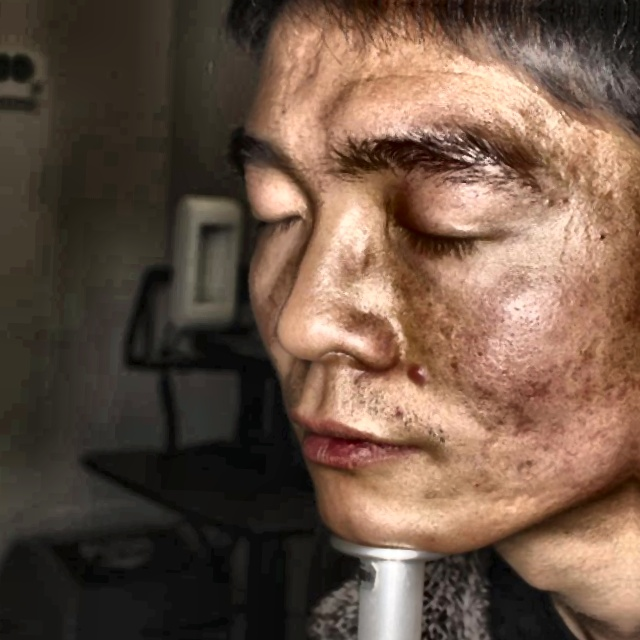comedone: (404, 363, 438, 393)
